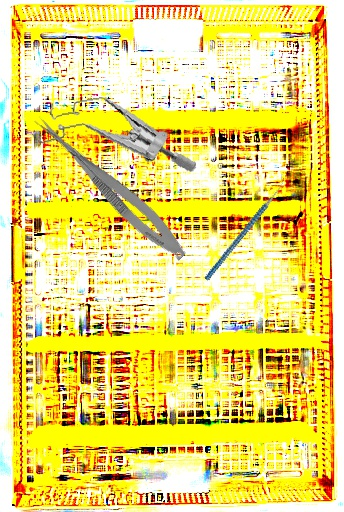Chopper: (179, 172, 310, 282)
Micro Scissor: (25, 110, 194, 266)
Speculum: (26, 80, 198, 197)
